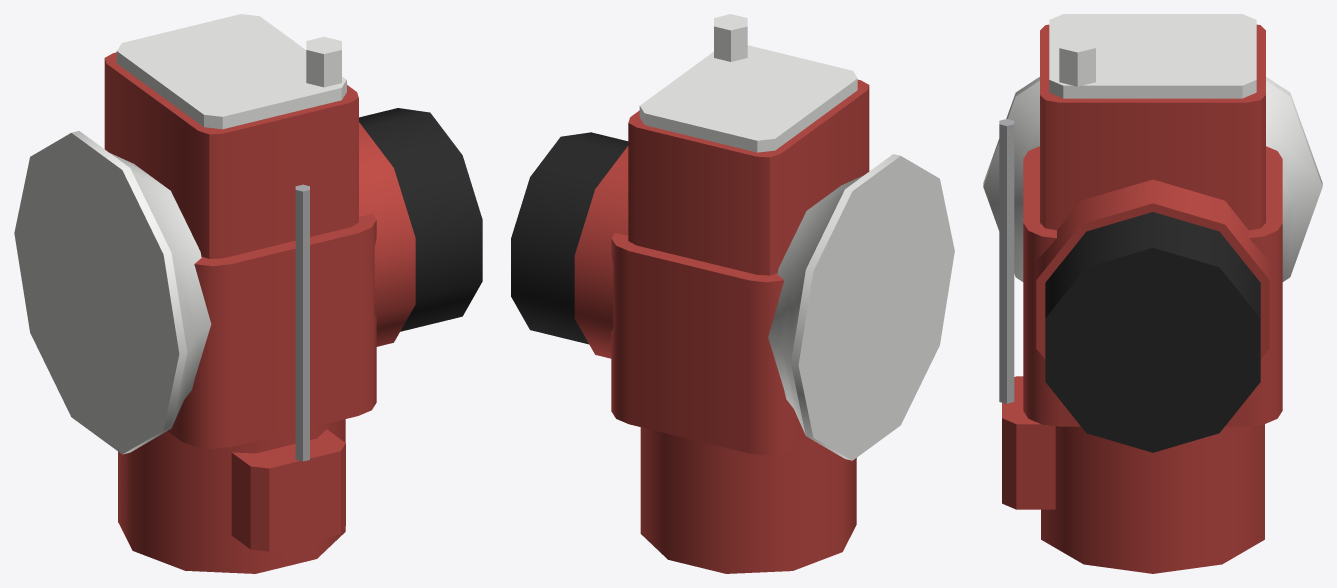
The model's file is carb_flat_lod1.glb.
3 views of the same model, side by side, from view 1: azimuth 30°, elevation 25°; view 2: azimuth 150°, elevation 25°; view 3: azimuth 270°, elevation 25° (orthographic). The views are drawn at different scales.
Visible parts, largest first — view 1: carb_flat_lod1; view 2: carb_flat_lod1; view 3: carb_flat_lod1.
Part boxes in pixels (bbox=[...]): carb_flat_lod1: bbox=[14, 14, 482, 573]; carb_flat_lod1: bbox=[511, 14, 954, 573]; carb_flat_lod1: bbox=[983, 14, 1322, 573].
Bounding box in the file's own units: 0.084 × 0.119 × 0.072.
